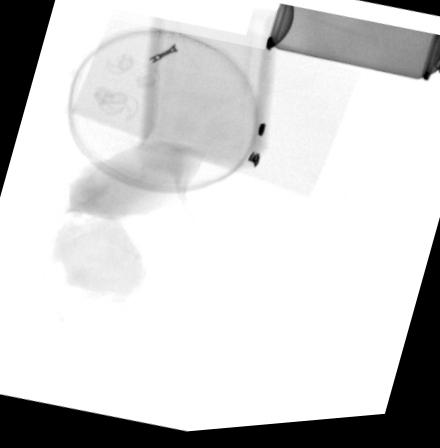Sprayer: (265, 7, 440, 90)
